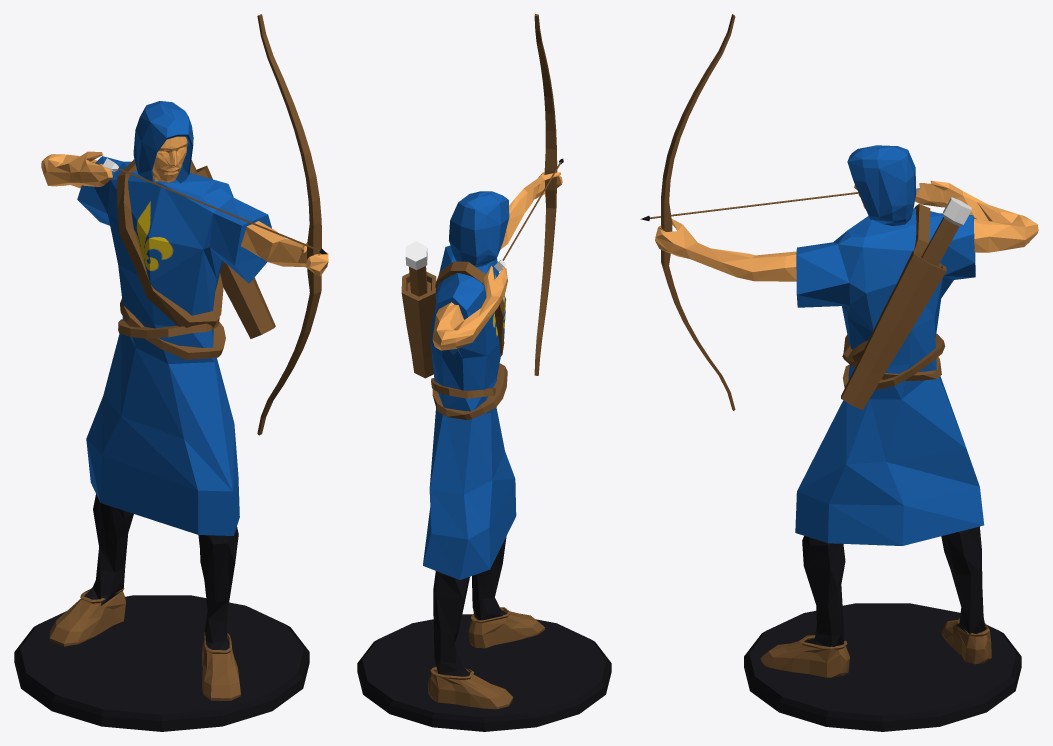
File: Archer.FBX
The picture shows the model from 3 angles, left to right: view 1: azimuth 30°, elevation 25°; view 2: azimuth 150°, elevation 25°; view 3: azimuth 270°, elevation 25°; orthographic projection. The views are drawn at different scales.
Visible parts, largest first — view 1: Peana; view 2: Peana; view 3: Peana.
Boxes of the visible parts, bbox=[...] form: Peana: bbox=[14, 14, 328, 731]; Peana: bbox=[357, 14, 611, 731]; Peana: bbox=[640, 14, 1038, 731].
Size of the model in its own units: 9.78 by 26.02 by 14.09.
